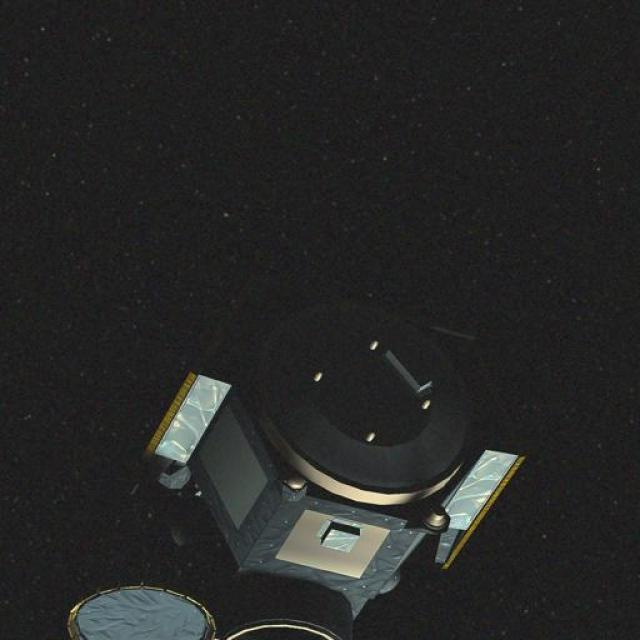debris: (147, 260, 527, 640)
